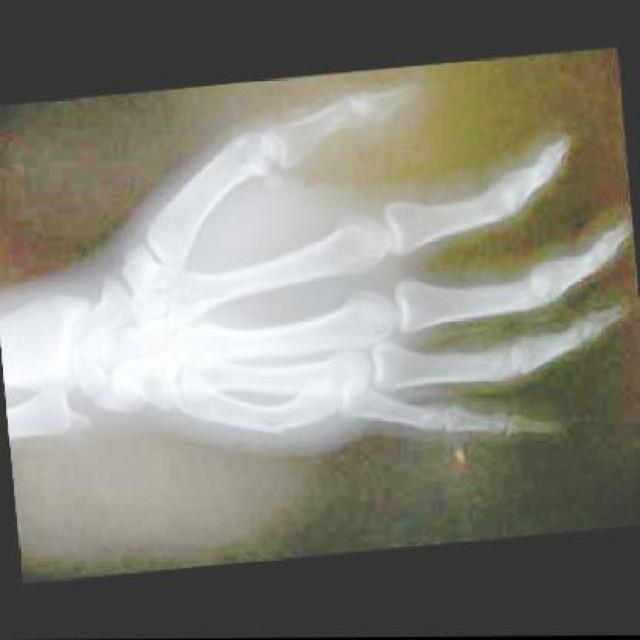Fracture: (254, 404, 313, 446)
